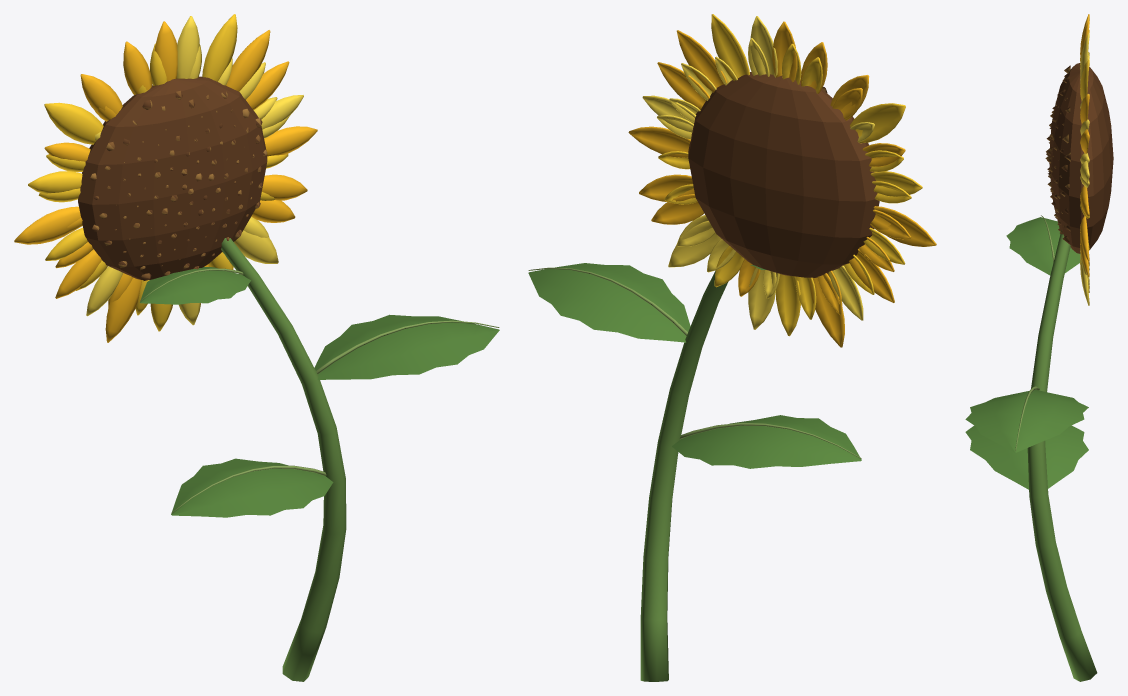
File: sunflower-v2-bloom-1-2.glb
3 renders of one model, left to right at view 1: azimuth 30°, elevation 25°; view 2: azimuth 150°, elevation 25°; view 3: azimuth 270°, elevation 25°, orthographic. The views are drawn at different scales.
Visible parts, largest first — view 1: Curved tapered stem; view 2: Curved tapered stem; view 3: Curved tapered stem.
Boxes of the visible parts, box(x1,y1,x2,y2) form: Curved tapered stem: box(14, 14, 499, 681); Curved tapered stem: box(528, 14, 936, 681); Curved tapered stem: box(965, 14, 1113, 681).
Size of the model in its own units: 0.3199 by 0.473 by 0.1056.
